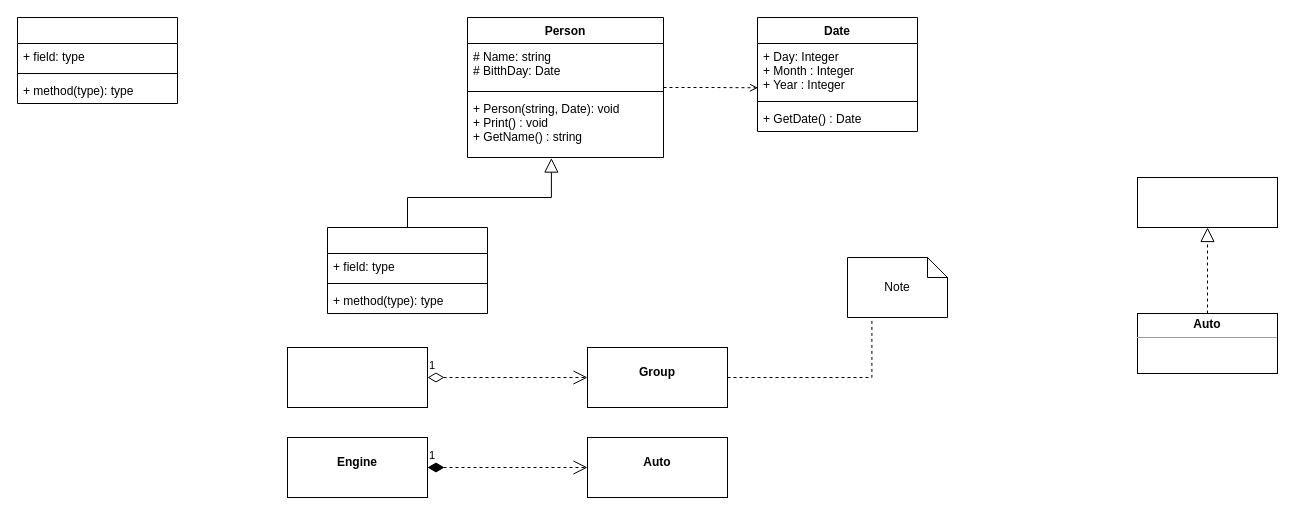
This 1295x515 diagram has some shape labels left out. Here are the shapes that lost their labels. From the top down, the box of each, then its label:
(16, 16, 178, 104): Figure
(1136, 176, 1278, 228): Speed
(326, 226, 488, 314): Employe
(286, 346, 428, 408): Student
